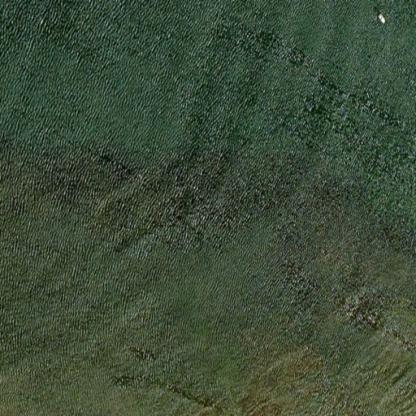ship: (373, 0, 386, 9)
